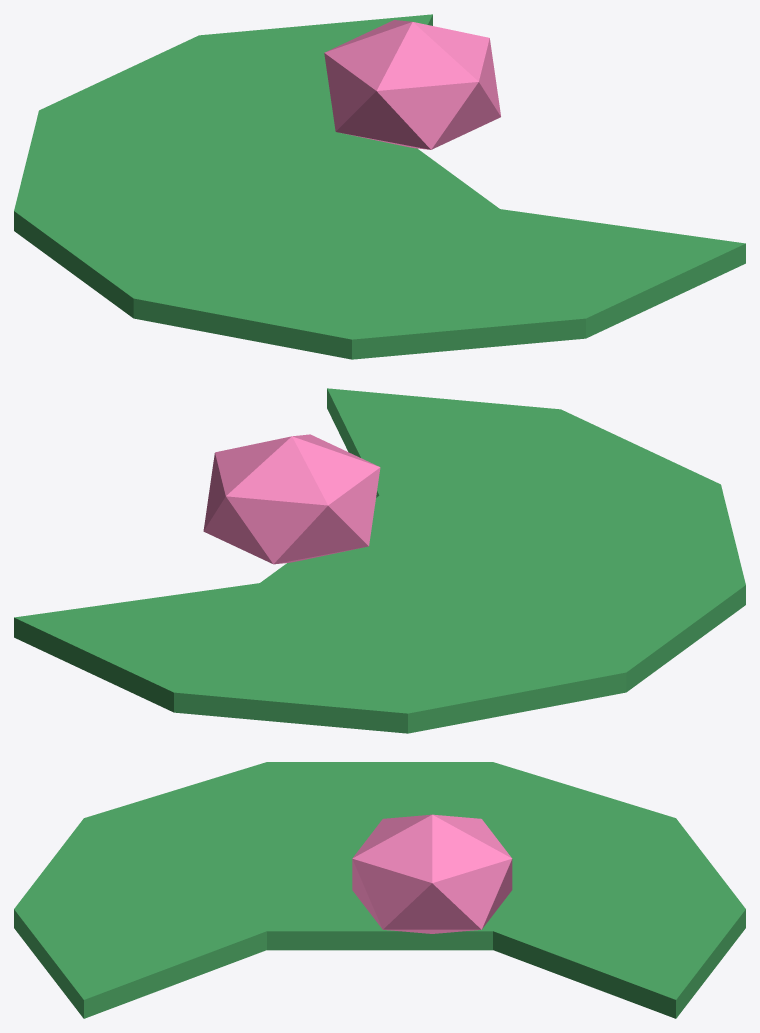
The model's file is lily_pad.glb.
The picture shows the model from 3 angles, top to bottom: view 1: azimuth 30°, elevation 25°; view 2: azimuth 150°, elevation 25°; view 3: azimuth 270°, elevation 25°; orthographic projection. The views are drawn at different scales.
Parts seen in each view (by area): view 1: lily_pad; view 2: lily_pad; view 3: lily_pad.
Part boxes in pixels (bbox=[...]): lily_pad: bbox=[14, 14, 745, 359]; lily_pad: bbox=[14, 388, 745, 733]; lily_pad: bbox=[14, 762, 745, 1018].
Bounding box in the file's own units: 0.5386 × 0.143 × 0.7.
